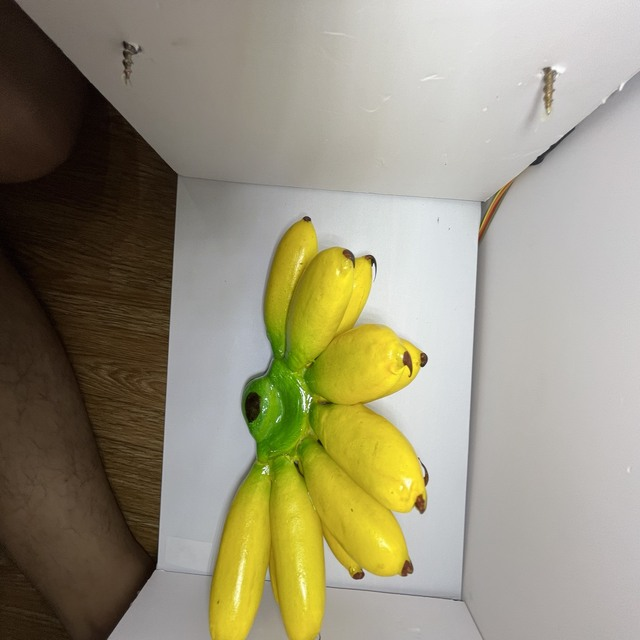Chuoi: (208, 210, 439, 640)
